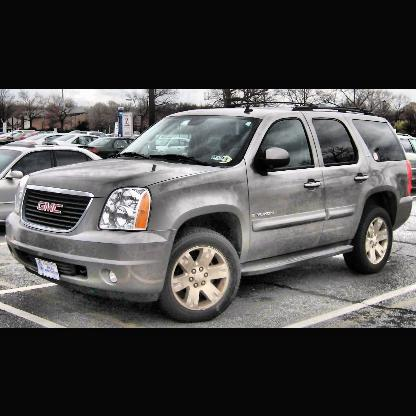GMC Yukon Hybrid SUV 2012: (6, 101, 412, 323)
